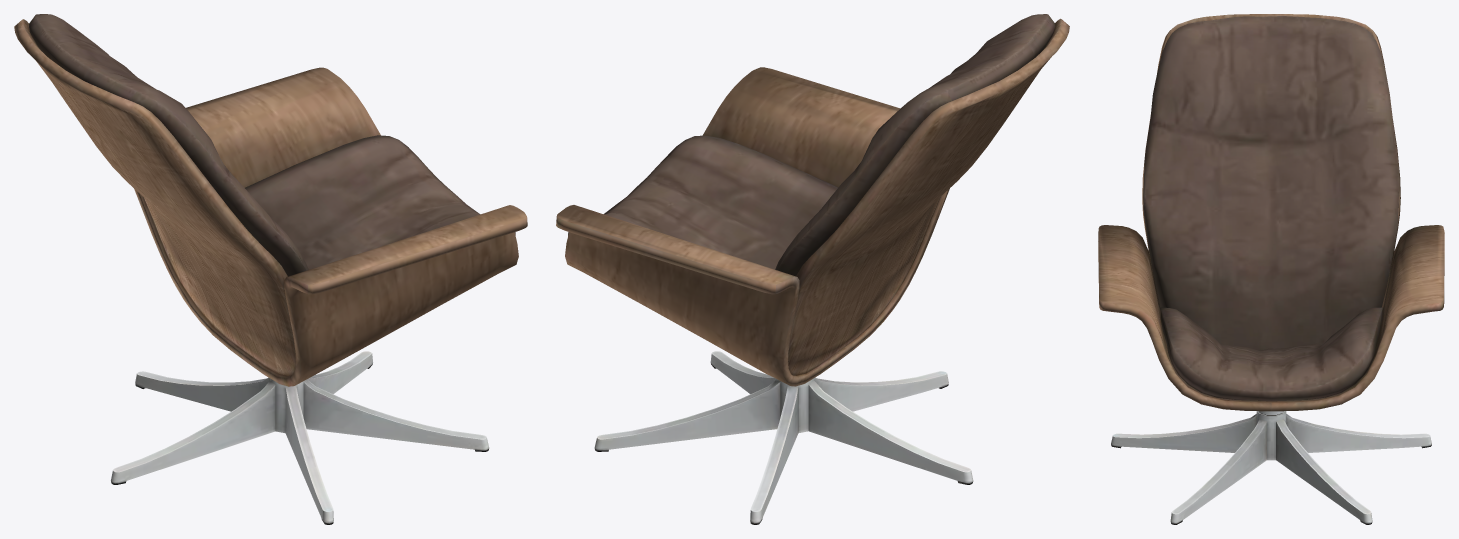
File: lounge-chair.glb
The picture shows the model from 3 angles, left to right: view 1: azimuth 30°, elevation 25°; view 2: azimuth 150°, elevation 25°; view 3: azimuth 270°, elevation 25°; orthographic projection. The views are drawn at different scales.
Visible parts, largest first — view 1: mid_century_lounge_chair; view 2: mid_century_lounge_chair; view 3: mid_century_lounge_chair.
Part boxes in pixels (x1,y1,x2,y2): mid_century_lounge_chair: [14, 14, 527, 524]; mid_century_lounge_chair: [556, 14, 1069, 524]; mid_century_lounge_chair: [1098, 14, 1444, 524].
Size of the model in its own units: 1.37 by 1.34 by 1.16.
1 material, 1 textured.
